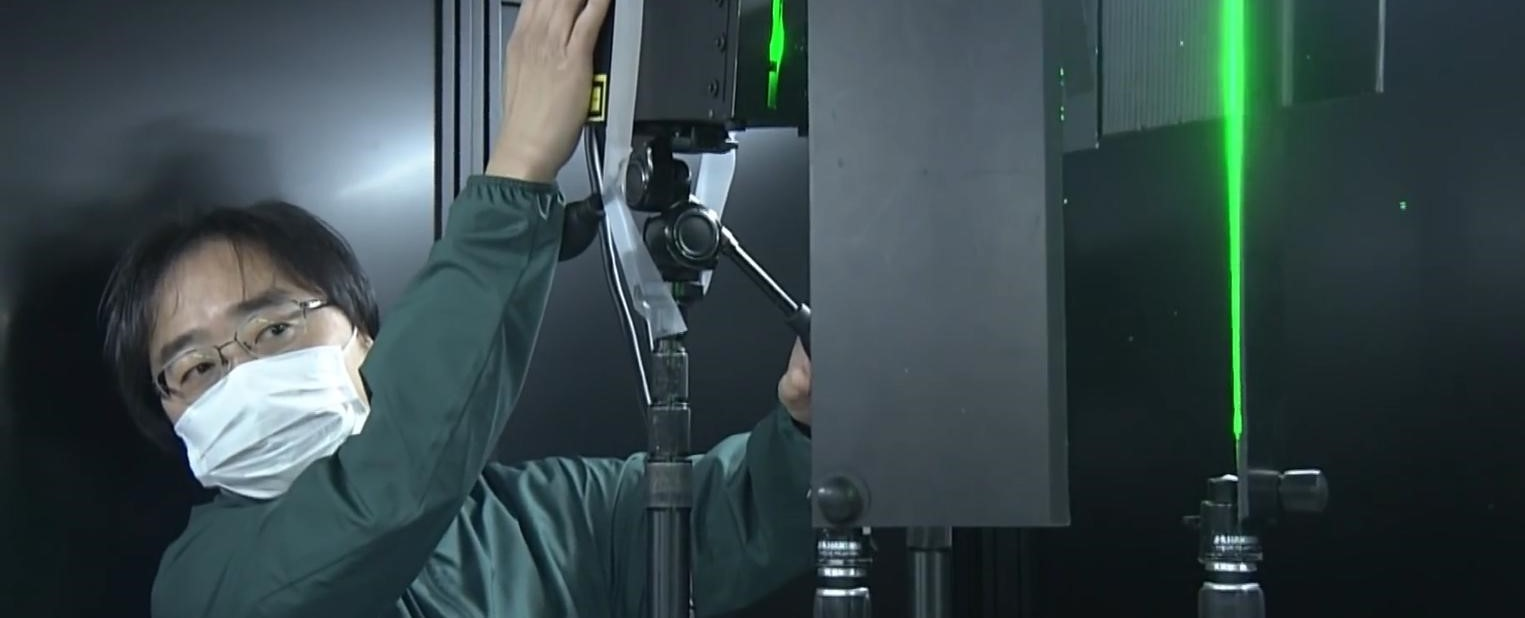with_mask: (165, 296, 349, 443)
